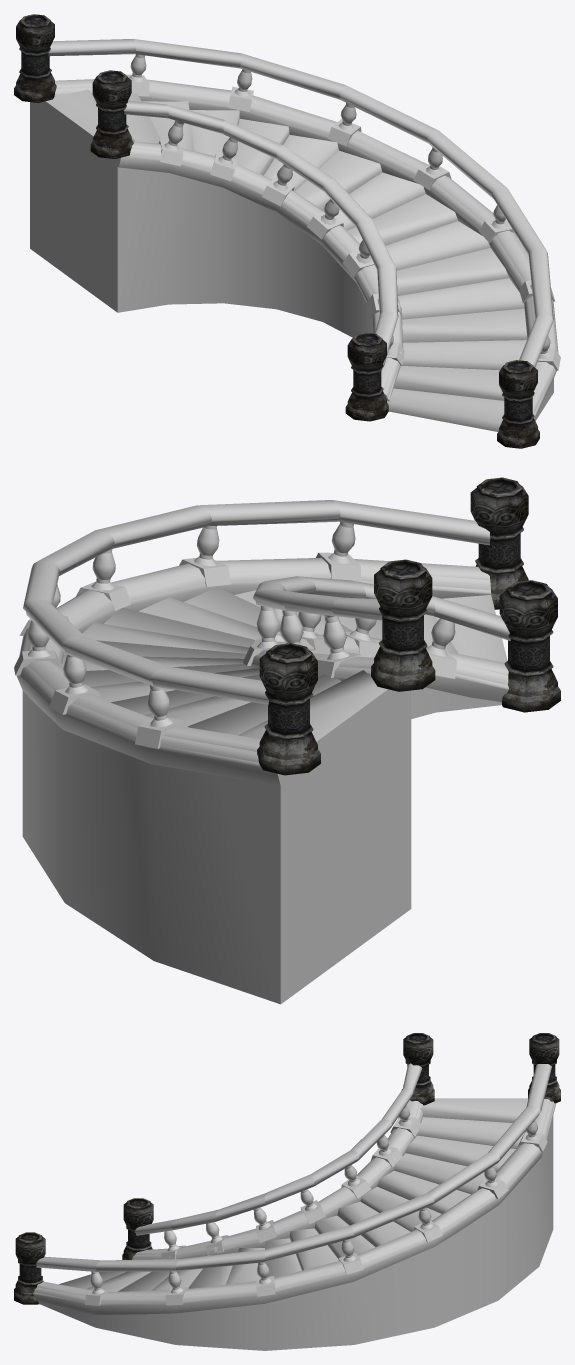
Rendered from round_solid_right.dae.
The picture shows the model from 3 angles, top to bottom: view 1: azimuth 30°, elevation 25°; view 2: azimuth 150°, elevation 25°; view 3: azimuth 270°, elevation 25°; orthographic projection. The views are drawn at different scales.
Visible parts, largest first — view 1: polySurface111, polySurface42, polySurface75, polySurface110; view 2: polySurface42, polySurface111, polySurface110, polySurface75; view 3: polySurface111, polySurface42, polySurface75, polySurface110.
Boxes of the visible parts, x1,y1,x2,y2 form: polySurface111: (38,39,560,419); polySurface42: (30,101,553,420); polySurface75: (46,89,527,431); polySurface110: (14,14,539,448); polySurface42: (22,687,501,1004); polySurface111: (14,500,510,785); polySurface110: (257,477,560,775); polySurface75: (62,587,507,741); polySurface111: (33,1063,556,1314); polySurface42: (42,1116,553,1350); polySurface75: (59,1098,527,1291); polySurface110: (14,1033,560,1304).
Size of what is drawn, in the model's own units: 859 by 593 by 1517.
